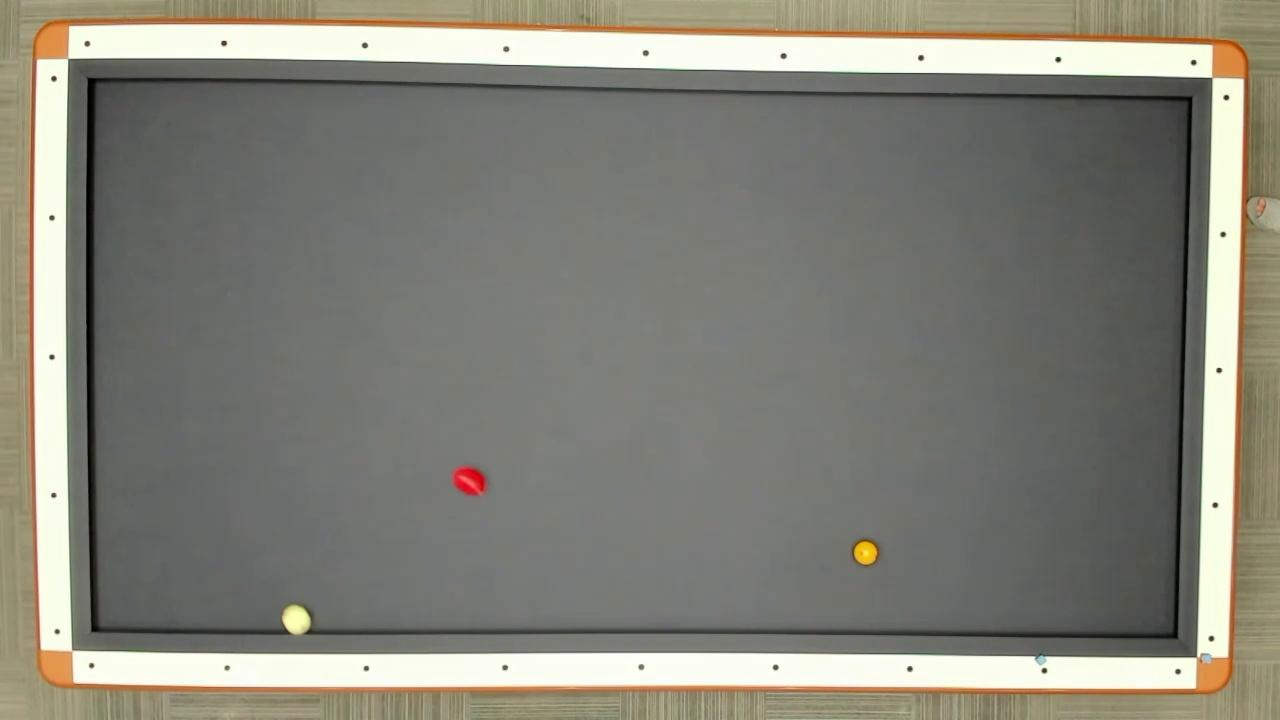Red: (449, 464, 488, 498)
White: (281, 602, 314, 638)
Yellow: (851, 539, 879, 568)
